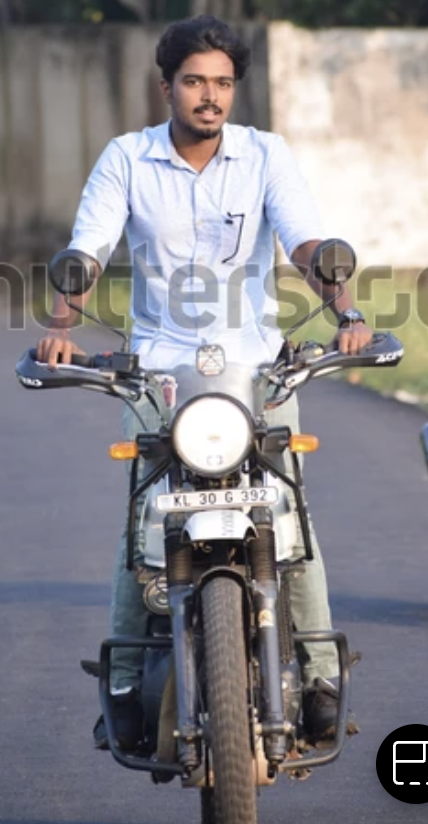motor: (15, 226, 421, 811)
no helmet: (136, 10, 272, 145)
number: (129, 468, 316, 516)
